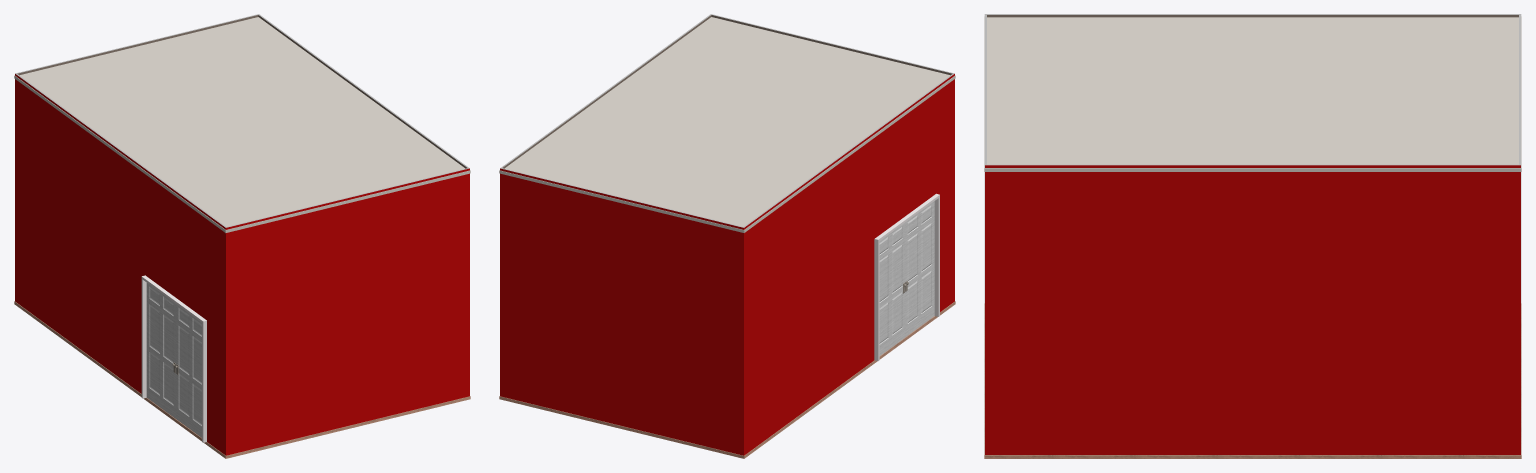
File: ProcTHOR-Train-24.glb
3 renders of one model, left to right at view 1: azimuth 30°, elevation 25°; view 2: azimuth 150°, elevation 25°; view 3: azimuth 270°, elevation 25°, orthographic. The views are drawn at different scales.
Parts seen in each view (by area): view 1: WallInside#wall|exterior|0.00|6.50|4.34|6.50, Ceiling#room|2|c, WallInside#wall|exterior|4.34|0.00|4.34|6.50, Doorway_Door_2b, Doorway_Door_2a, Floor#room|2|f, Doorway_Double_2, WallInside#wall|2|0.00|0.00|4.34|0.00, WallInside#wall|2|0.00|0.00|0.00|6.50; view 2: WallInside#wall|exterior|0.00|0.00|4.34|0.00, Ceiling#room|2|c, WallInside#wall|exterior|4.34|0.00|4.34|6.50, Doorway_Door_2a, Doorway_Door_2b, Doorway_Double_2, Floor#room|2|f, WallInside#wall|2|0.00|6.50|4.34|6.50, WallInside#wall|2|0.00|0.00|0.00|6.50; view 3: WallInside#wall|exterior|0.00|0.00|0.00|6.50, Ceiling#room|2|c, Floor#room|2|f, WallInside#wall|2|4.34|0.00|4.34|6.50, WallInside#wall|exterior|0.00|6.50|4.34|6.50, WallInside#wall|exterior|0.00|0.00|4.34|0.00.
Part boxes in pixels (x1=…): WallInside#wall|exterior|0.00|6.50|4.34|6.50: x1=226, y1=168, x2=469, y2=455; Ceiling#room|2|c: x1=14, y1=17, x2=470, y2=232; WallInside#wall|exterior|4.34|0.00|4.34|6.50: x1=15, y1=73, x2=225, y2=455; Doorway_Door_2b: x1=146, y1=283, x2=176, y2=418; Doorway_Door_2a: x1=176, y1=304, x2=201, y2=437; Floor#room|2|f: x1=14, y1=301, x2=470, y2=458; Doorway_Double_2: x1=141, y1=275, x2=206, y2=442; WallInside#wall|2|0.00|0.00|4.34|0.00: x1=16, y1=14, x2=259, y2=75; WallInside#wall|2|0.00|0.00|0.00|6.50: x1=258, y1=14, x2=468, y2=168; WallInside#wall|exterior|0.00|0.00|4.34|0.00: x1=500, y1=168, x2=743, y2=455; Ceiling#room|2|c: x1=499, y1=17, x2=955, y2=232; WallInside#wall|exterior|4.34|0.00|4.34|6.50: x1=744, y1=73, x2=954, y2=455; Doorway_Door_2a: x1=905, y1=201, x2=934, y2=337; Doorway_Door_2b: x1=879, y1=223, x2=905, y2=355; Doorway_Double_2: x1=874, y1=193, x2=939, y2=360; Floor#room|2|f: x1=499, y1=301, x2=955, y2=458; WallInside#wall|2|0.00|6.50|4.34|6.50: x1=711, y1=14, x2=953, y2=75; WallInside#wall|2|0.00|0.00|0.00|6.50: x1=502, y1=14, x2=711, y2=168; WallInside#wall|exterior|0.00|0.00|0.00|6.50: x1=985, y1=165, x2=1520, y2=454; Ceiling#room|2|c: x1=984, y1=16, x2=1521, y2=171; Floor#room|2|f: x1=984, y1=303, x2=1521, y2=458; WallInside#wall|2|4.34|0.00|4.34|6.50: x1=985, y1=14, x2=1520, y2=17; WallInside#wall|exterior|0.00|6.50|4.34|6.50: x1=984, y1=14, x2=985, y2=454; WallInside#wall|exterior|0.00|0.00|4.34|0.00: x1=1520, y1=14, x2=1521, y2=454.
Size of what is drawn, in the model's own units: 4.44 by 3.94 by 6.54.
Materials: 43 (13 with a texture image).
